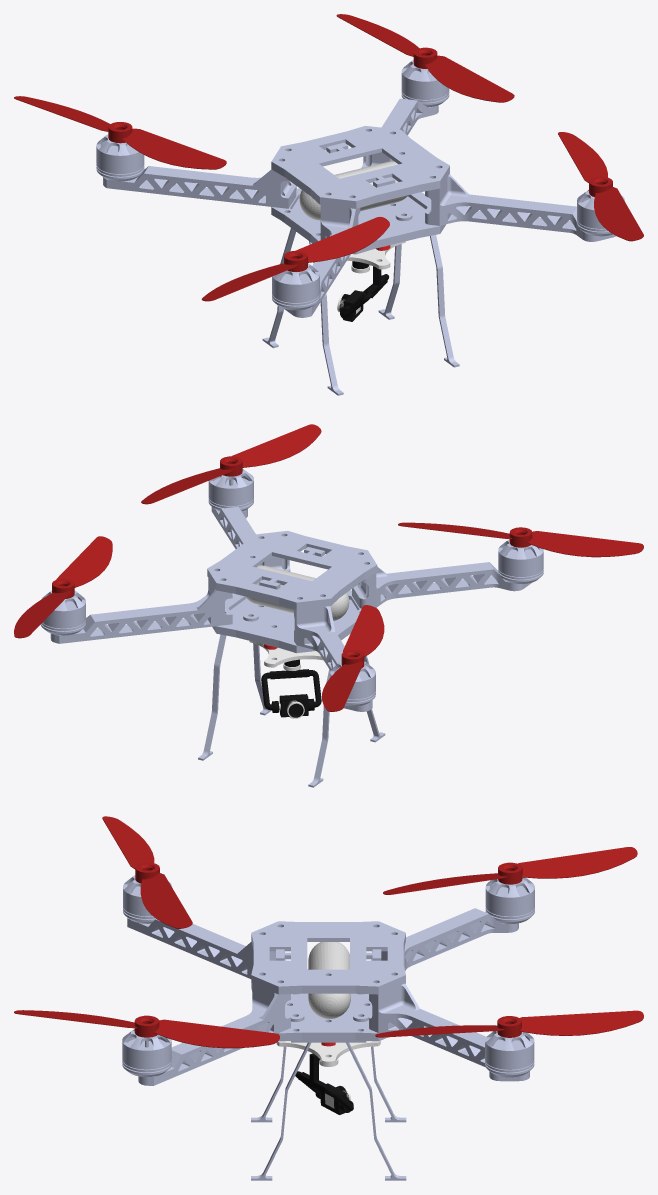
Rendered from Дрон на водородном топливе.FBX.
The picture shows the model from 3 angles, top to bottom: view 1: azimuth 30°, elevation 25°; view 2: azimuth 150°, elevation 25°; view 3: azimuth 270°, elevation 25°; orthographic projection. The views are drawn at different scales.
Parts seen in each view (by area): view 1: крышка верхняя от дрона-1-solid1, ручка-1-solid1, ручка-4-solid1, крышка нижняя-1-solid1, 9_fan_blade-3-solid1, 9_fan_blade-4-solid1, 9_fan_blade-1-solid1, 9_fan_blade-2-solid1, ручка-3-solid1, Движок-1-solid1, Движок-2-solid1, ножки-2-solid1 (+7 smaller); view 2: крышка верхняя от дрона-1-solid1, ручка-2-solid1, ручка-3-solid1, крышка нижняя-1-solid1, 9_fan_blade-4-solid1, 9_fan_blade-2-solid1, 9_fan_blade-1-solid1, 9_fan_blade-3-solid1, ручка-4-solid1, Движок-1-solid1, Движок-4-solid1, ручка-1-solid1 (+8 smaller); view 3: крышка верхняя от дрона-1-solid1, ручка-2-solid1, 9_fan_blade-2-solid1, 9_fan_blade-1-solid1, 9_fan_blade-3-solid1, ручка-1-solid1, 9_fan_blade-4-solid1, крышка нижняя-1-solid1, ручка-3-solid1, ручка-4-solid1, Баллон, Движок-3-solid1 (+7 smaller).
Boxes of the visible parts, x1=… form: крышка верхняя от дрона-1-solid1: x1=271, y1=125, x2=449, y2=208; ручка-1-solid1: x1=425, y1=174, x2=616, y2=241; ручка-4-solid1: x1=103, y1=166, x2=296, y2=208; крышка нижняя-1-solid1: x1=271, y1=188, x2=445, y2=254; 9_fan_blade-3-solid1: x1=14, y1=96, x2=226, y2=169; 9_fan_blade-4-solid1: x1=201, y1=217, x2=389, y2=301; 9_fan_blade-1-solid1: x1=336, y1=14, x2=514, y2=102; 9_fan_blade-2-solid1: x1=558, y1=132, x2=643, y2=241; ручка-3-solid1: x1=284, y1=205, x2=360, y2=317; Движок-1-solid1: x1=272, y1=263, x2=319, y2=310; Движок-2-solid1: x1=96, y1=134, x2=144, y2=181; ножки-2-solid1: x1=378, y1=235, x2=459, y2=367; крышка верхняя от дрона-1-solid1: x1=207, y1=530, x2=377, y2=609; ручка-2-solid1: x1=50, y1=578, x2=232, y2=643; ручка-3-solid1: x1=352, y1=562, x2=531, y2=608; крышка нижняя-1-solid1: x1=212, y1=590, x2=377, y2=653; 9_fan_blade-4-solid1: x1=398, y1=522, x2=643, y2=557; 9_fan_blade-2-solid1: x1=141, y1=424, x2=321, y2=504; 9_fan_blade-1-solid1: x1=14, y1=536, x2=112, y2=638; 9_fan_blade-3-solid1: x1=322, y1=605, x2=384, y2=711; ручка-4-solid1: x1=294, y1=606, x2=372, y2=711; Движок-1-solid1: x1=498, y1=539, x2=543, y2=583; Движок-4-solid1: x1=208, y1=469, x2=253, y2=511; ручка-1-solid1: x1=211, y1=506, x2=290, y2=571; крышка верхняя от дрона-1-solid1: x1=251, y1=921, x2=405, y2=994; ручка-2-solid1: x1=368, y1=983, x2=529, y2=1081; 9_fan_blade-2-solid1: x1=14, y1=1010, x2=279, y2=1048; 9_fan_blade-1-solid1: x1=375, y1=1010, x2=643, y2=1037; 9_fan_blade-3-solid1: x1=383, y1=847, x2=637, y2=894; ручка-1-solid1: x1=138, y1=983, x2=290, y2=1085; 9_fan_blade-4-solid1: x1=102, y1=816, x2=192, y2=928; крышка нижняя-1-solid1: x1=251, y1=969, x2=405, y2=1041; ручка-3-solid1: x1=127, y1=918, x2=286, y2=978; ручка-4-solid1: x1=371, y1=908, x2=518, y2=970; Баллон: x1=308, y1=942, x2=350, y2=1018; Движок-3-solid1: x1=485, y1=1031, x2=534, y2=1077.
Bounding box in the file's own units: 250 × 106 × 294.
